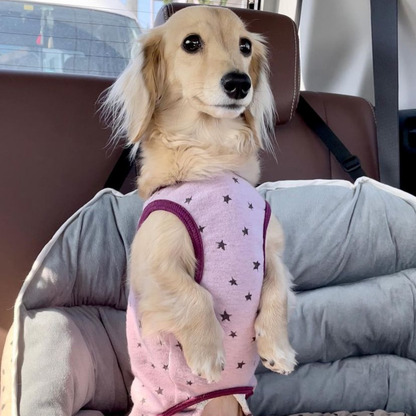dachshund: (100, 5, 300, 386)
